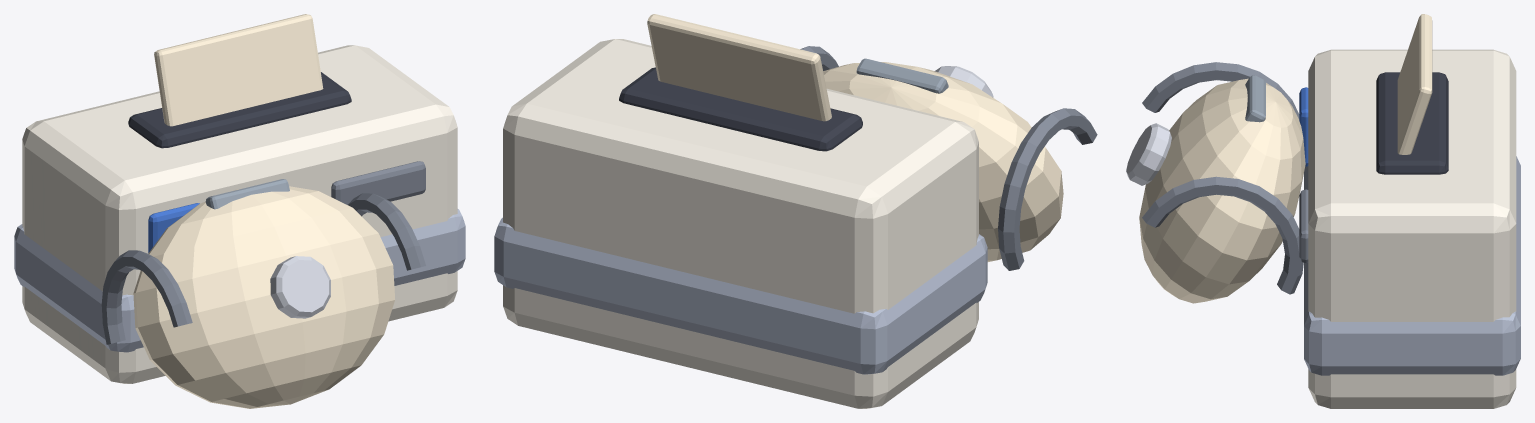
The model's file is mask.glb.
3 renders of one model, left to right at view 1: azimuth 30°, elevation 25°; view 2: azimuth 150°, elevation 25°; view 3: azimuth 270°, elevation 25°, orthographic. The views are drawn at different scales.
Visible parts, largest first — view 1: mask; view 2: mask; view 3: mask.
Boxes of the visible parts, x1,y1,x2,y2 form: mask: (14,14,465,408); mask: (494,14,1097,408); mask: (1126,14,1520,408).
Bounding box in the file's own units: 0.965 × 0.6866 × 0.8731.
